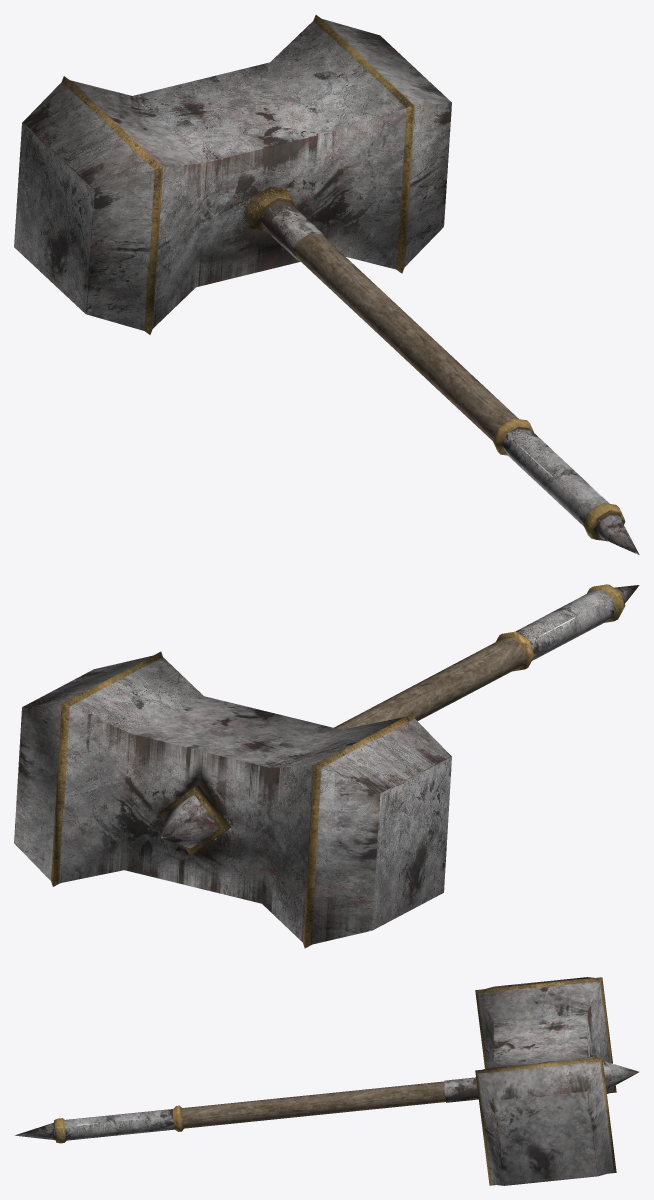
Rendered from whsledge.glb.
3 renders of one model, top to bottom at view 1: azimuth 30°, elevation 25°; view 2: azimuth 150°, elevation 25°; view 3: azimuth 270°, elevation 25°, orthographic. The views are drawn at different scales.
Parts seen in each view (by area): view 1: defaultobject; view 2: defaultobject; view 3: defaultobject.
Boxes of the visible parts, x1,y1,x2,y2 form: defaultobject: [14, 15, 639, 554]; defaultobject: [14, 584, 639, 948]; defaultobject: [14, 977, 639, 1185].
Bounding box in the file's own units: 5.73 × 3 × 13.26.
Materials: 1 (1 with a texture image).
